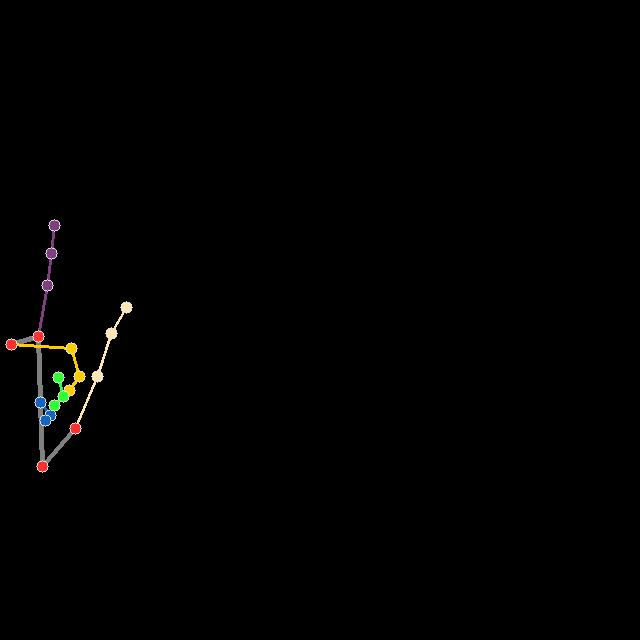gun: (0, 217, 141, 482)
